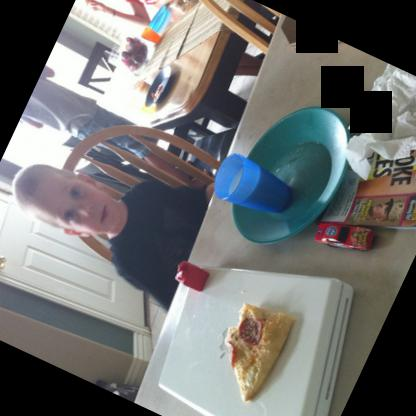backpack: (102, 382, 139, 403)
